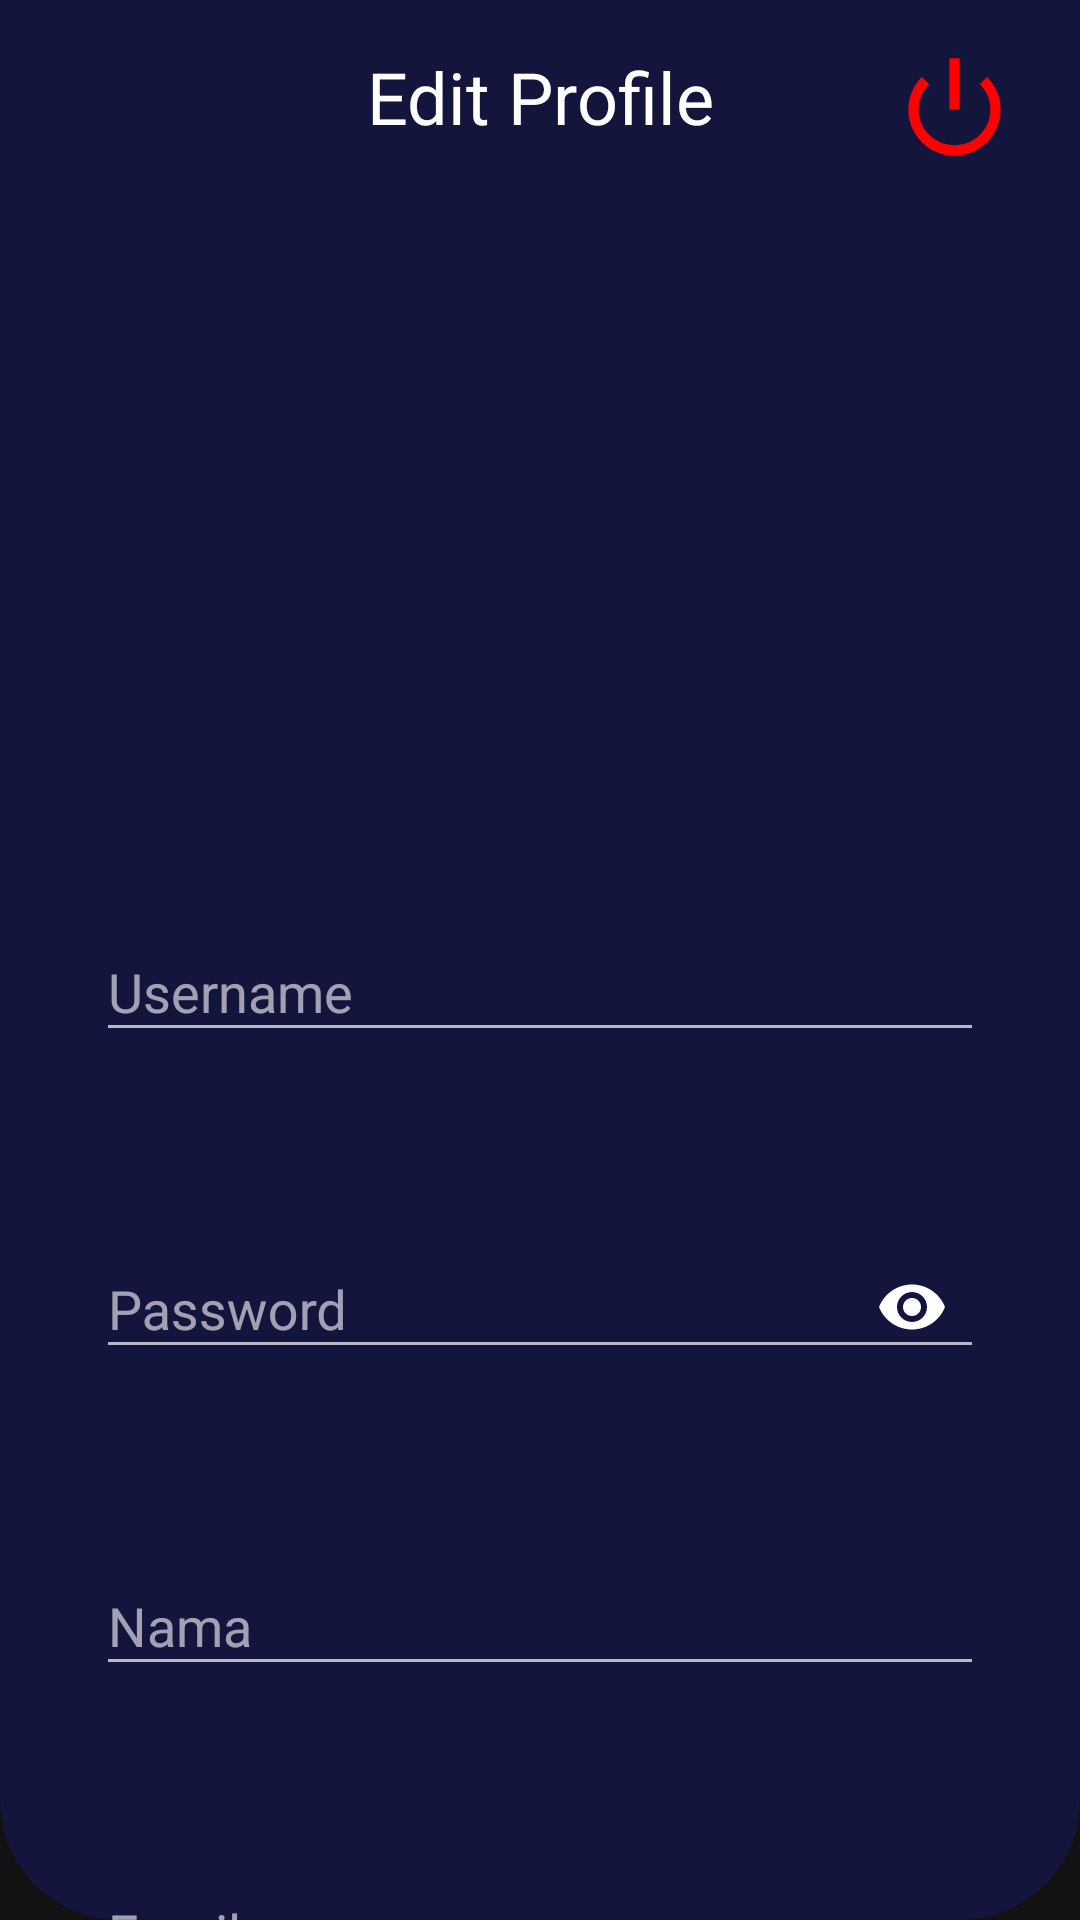

Where icons sit on this 1080px×1920px app screen, as (x1, y1, x2, y2):
lock power off: (908, 58, 1001, 156)
